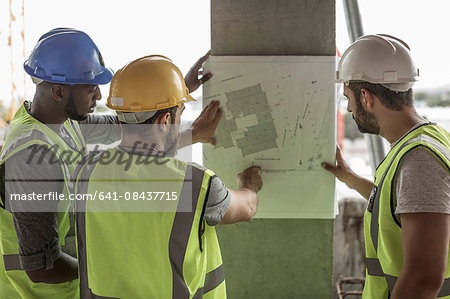blue: (24, 26, 103, 122)
white: (336, 34, 419, 134)
yellow: (109, 52, 187, 155)
